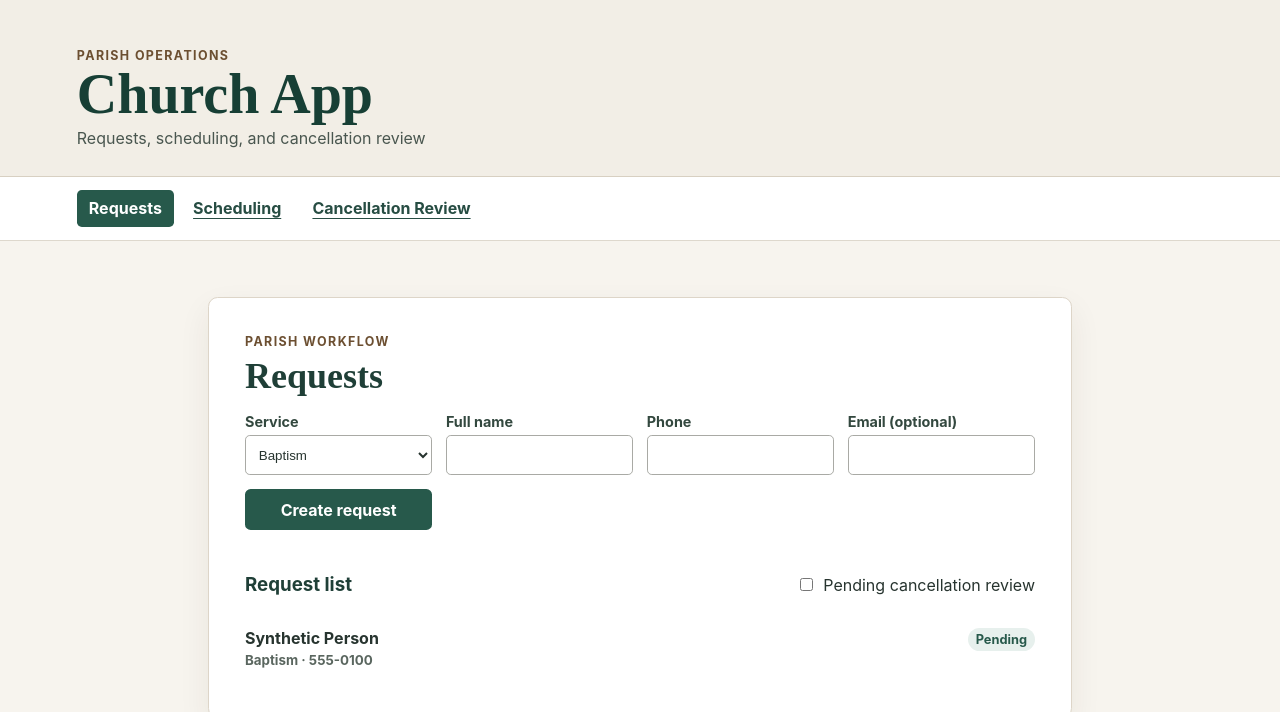
application foundation › renders request summaries and Pending draft actions without a synthetic cancellation status
Step 1. Click the button "Synthetic Person Baptism · 555-0100 Pending" → (312, 638), box [245,615,1035,681]
(page scrolled)
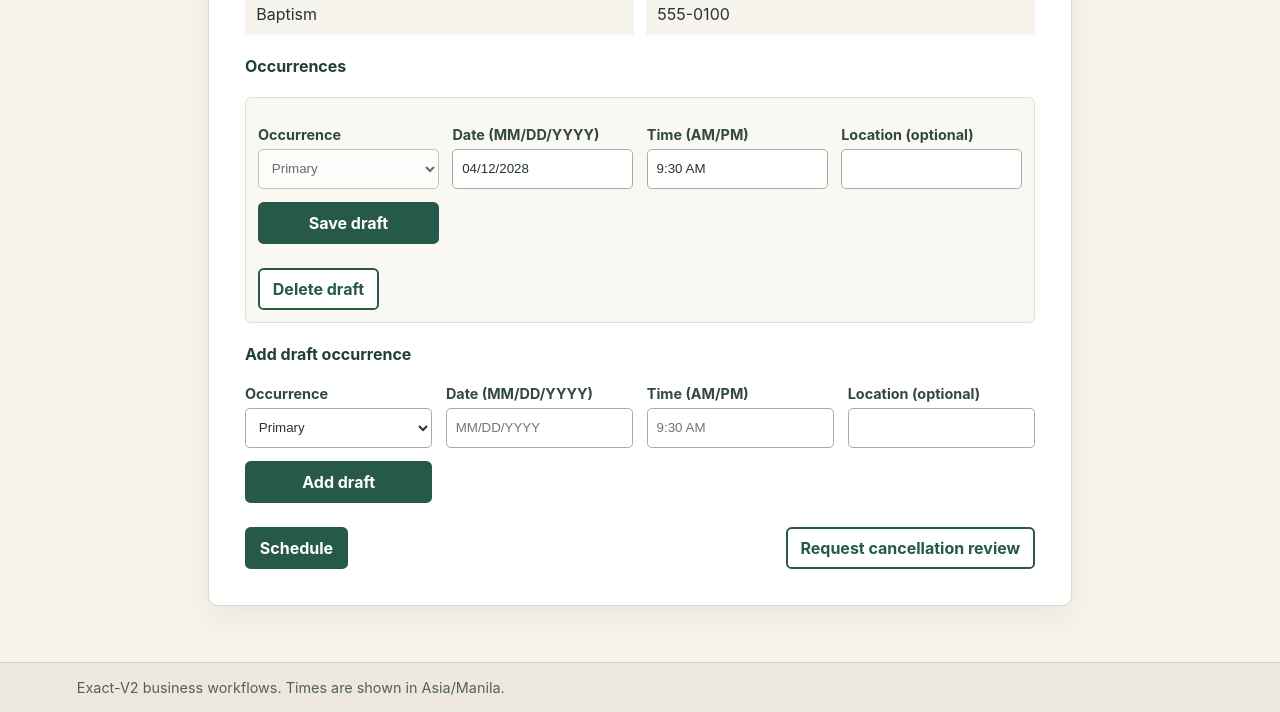
Now the button "Delete draft" is shown, box [258,268,379,310]
Now the button "Schedule" is shown, box [245,527,348,568]
